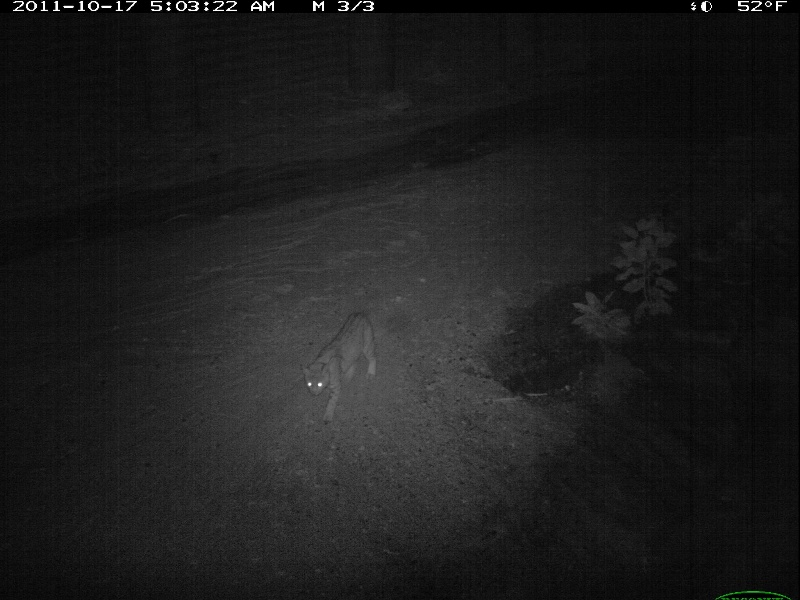cat: (307, 309, 379, 422)
